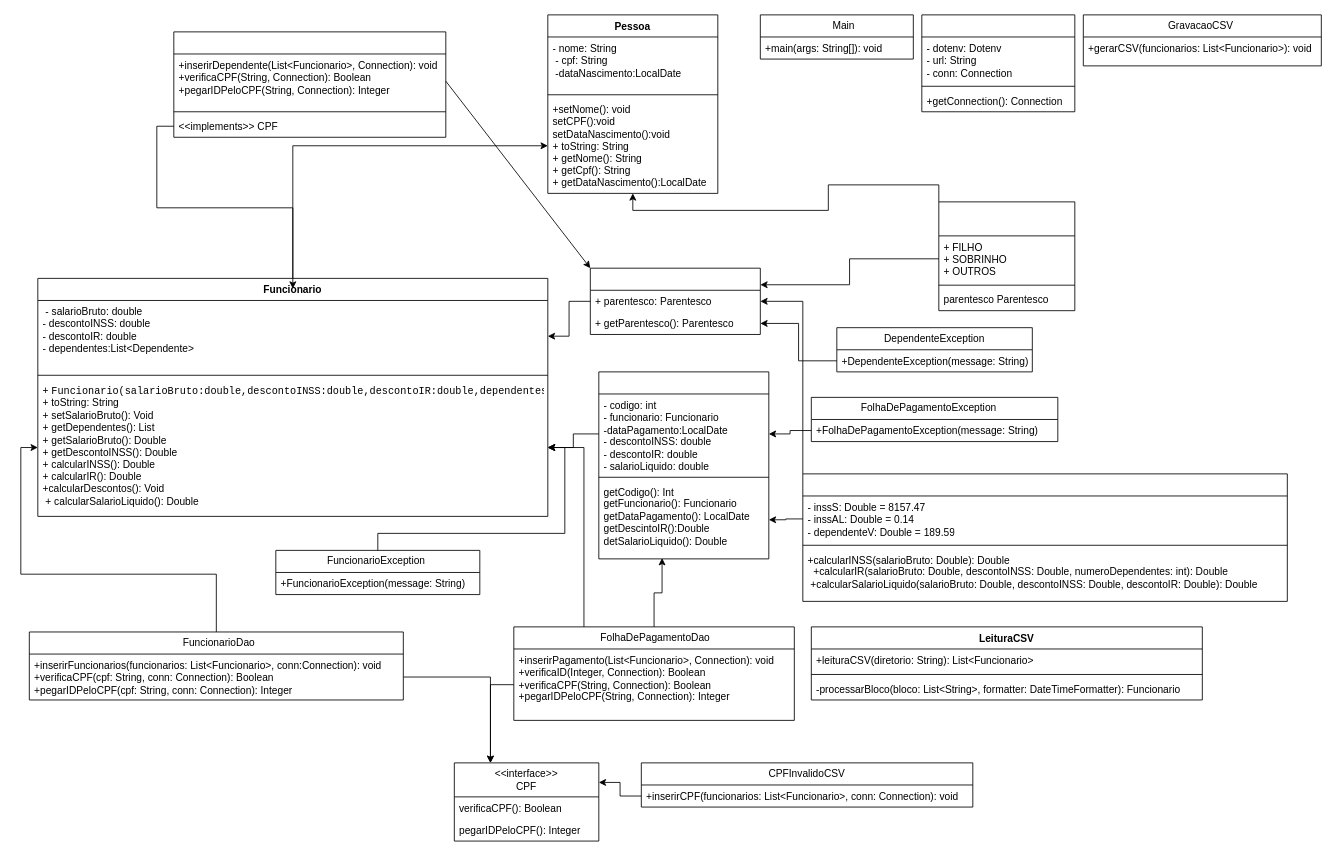
This 1336x859 diagram has some shape labels left out. Here are the shapes that lost their labels. From the top down, the box of each, then its label:
(921, 14, 1075, 112): ConnectionFactory
(173, 31, 446, 137): DependenteDao
(938, 201, 1075, 311): <<enum>> Parentesco
(589, 267, 760, 334): Dependente
(598, 371, 769, 559): FolhaPagamento
(802, 473, 1287, 601): CalculoService
